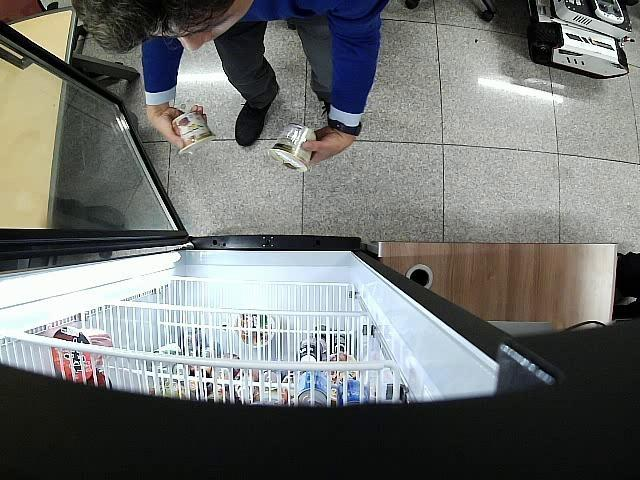04_chapagetti_S: (268, 123, 316, 172), (172, 110, 216, 156)
